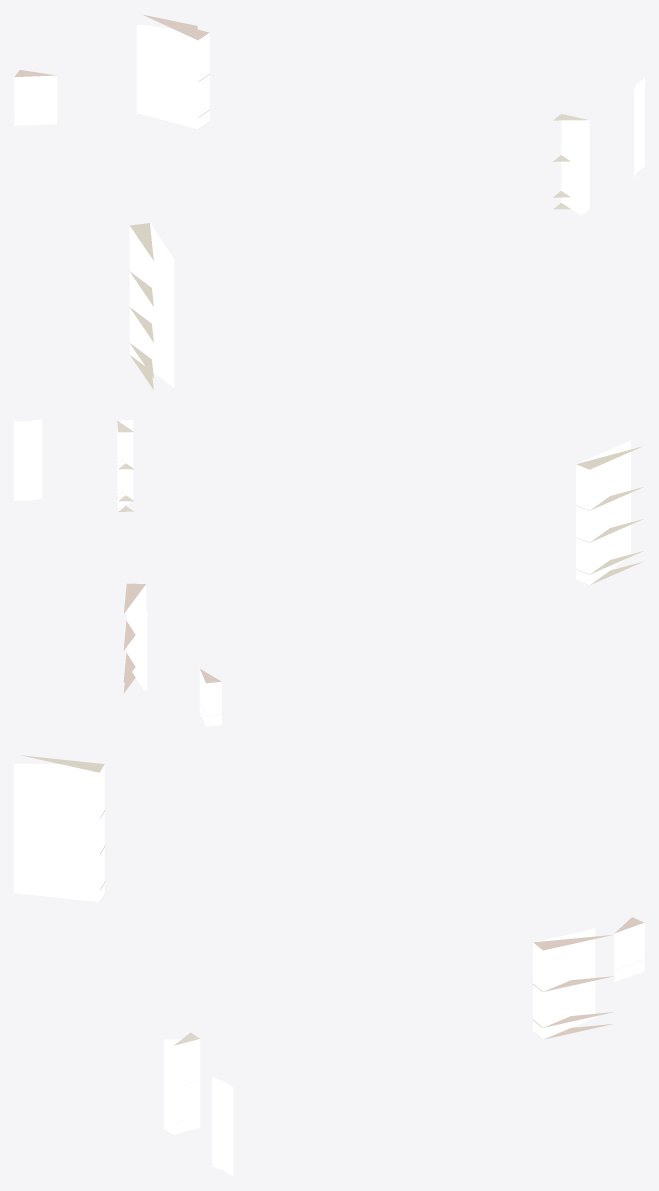
File: buildings-10_-1-coarse.glb
3 views of the same model, one above another, from view 1: azimuth 30°, elevation 25°; view 2: azimuth 150°, elevation 25°; view 3: azimuth 270°, elevation 25° (orthographic). The views are drawn at different scales.
Parts seen in each view (by area): view 1: block_10_-1_residential, block_10_-1_roof; view 2: block_10_-1_residential, block_10_-1_roof; view 3: block_10_-1_residential, block_10_-1_roof.
Part boxes in pixels (x1,y1,x2,y2): block_10_-1_residential: [14, 24, 644, 387]; block_10_-1_roof: [14, 14, 587, 389]; block_10_-1_residential: [14, 419, 630, 726]; block_10_-1_roof: [117, 420, 643, 726]; block_10_-1_residential: [14, 763, 644, 1176]; block_10_-1_roof: [21, 755, 644, 1045].
Size of the model in its own units: 140 by 28.9 by 128.
